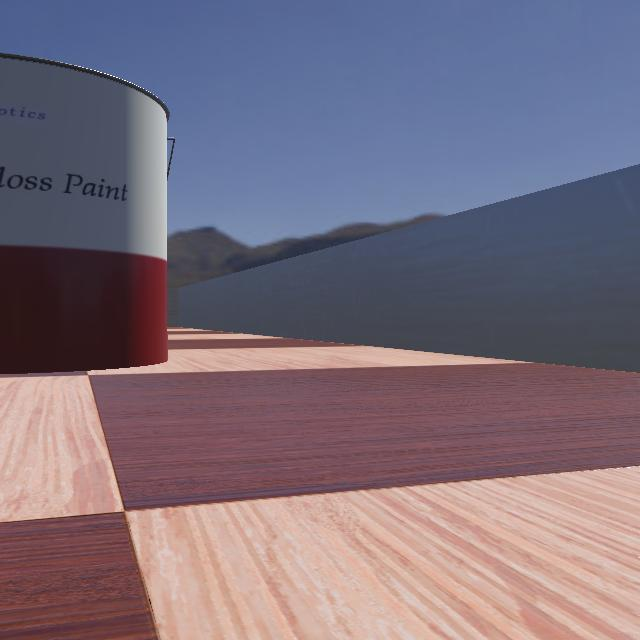paint-bucket: (0, 46, 202, 378)
